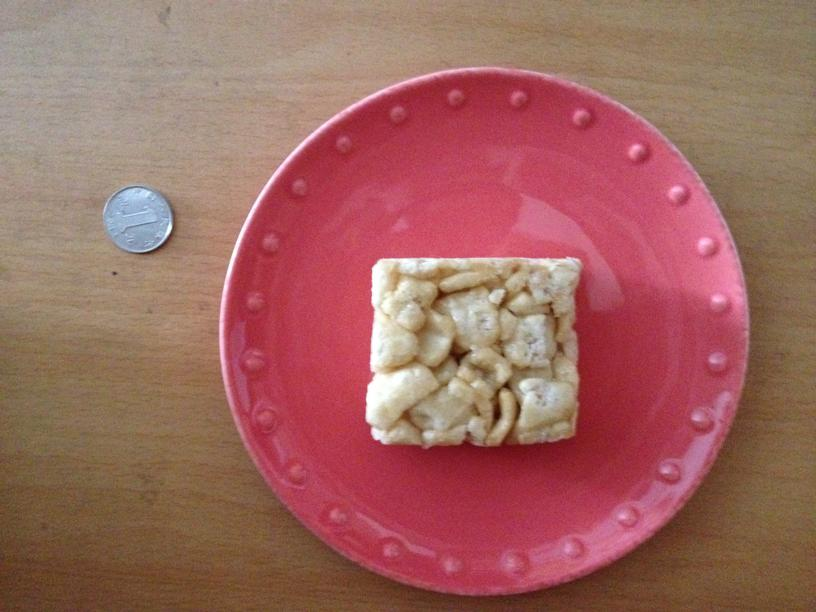coin: (102, 186, 175, 256)
sachima: (360, 252, 589, 447)
